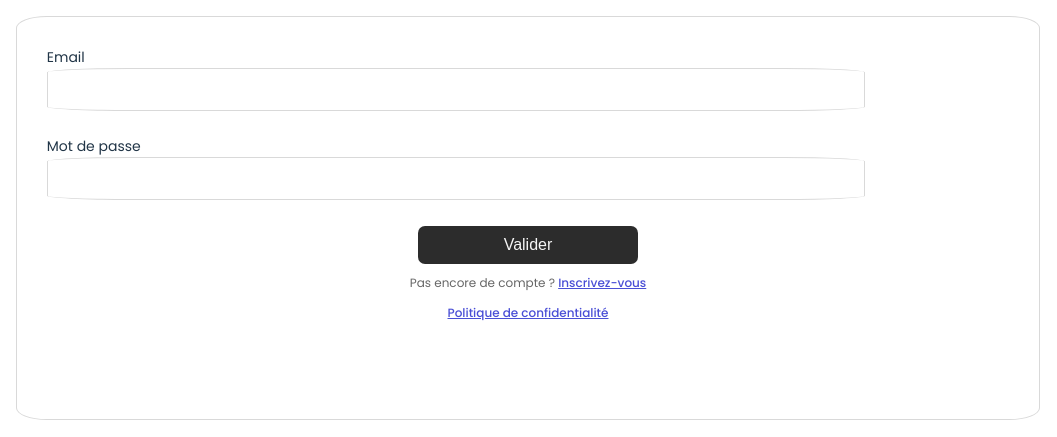
Test case: LoginForm Validation › should display error when password is too short
The image size is (1057, 437).
Step 1. Type "test@example.com" into the field labelled "Email" → (456, 90), box [47,68,865,111]
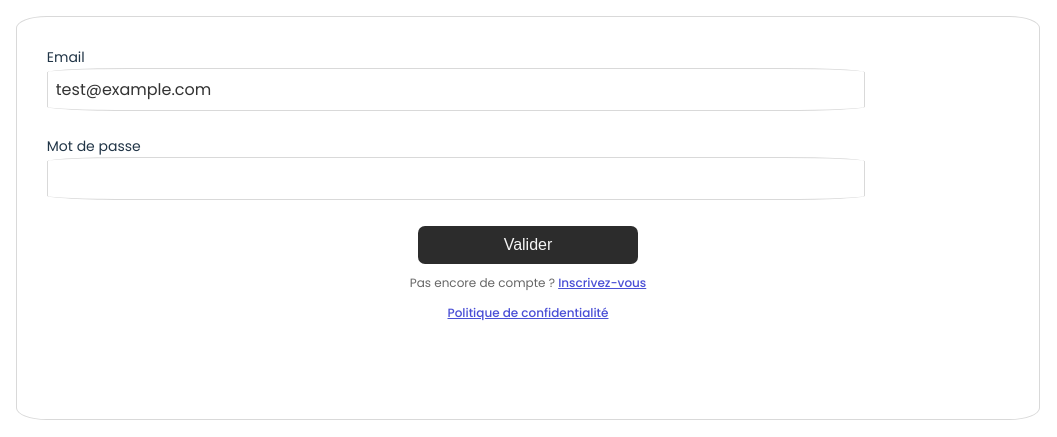
Step 2. Type "short" into the password field labelled "Mot de passe" → (456, 179), box [47,157,865,200]
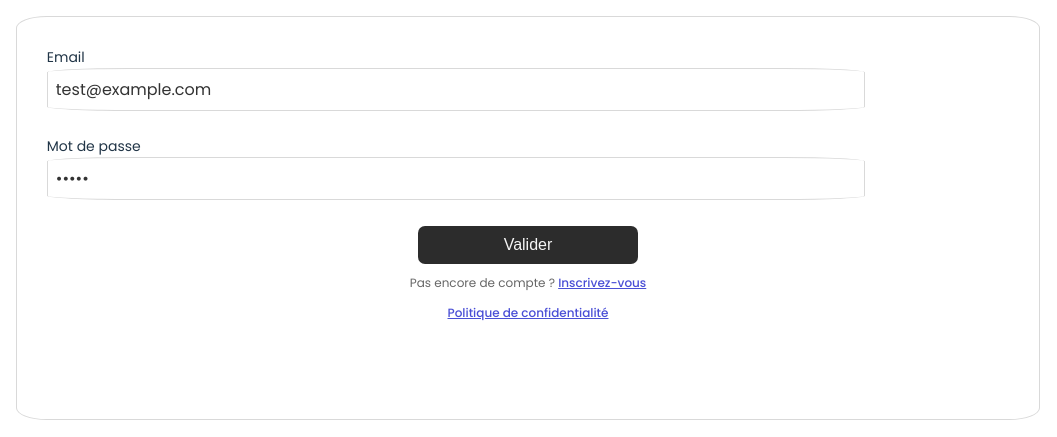
Step 3. Click the button "Valider" → (528, 244), box [418,226,638,264]
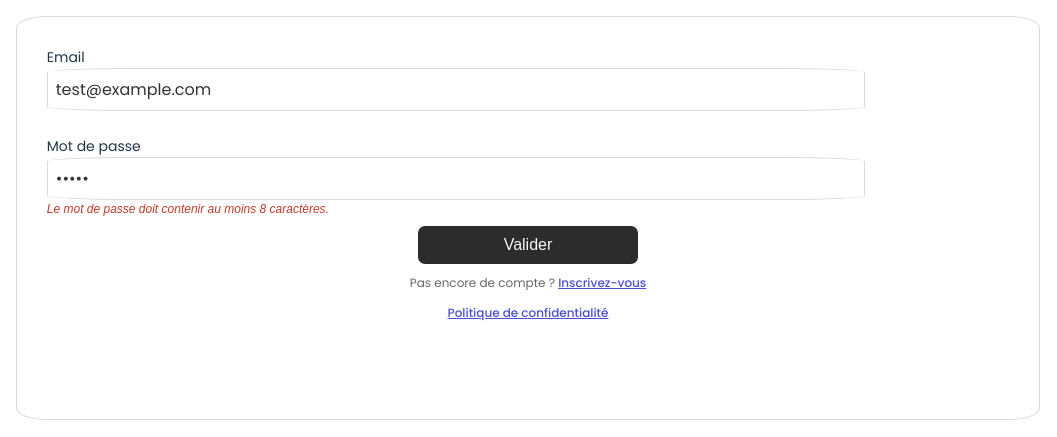
Now the text "Le mot de passe doit contenir au moins 8 caractères." is shown, box [47,202,329,216]
